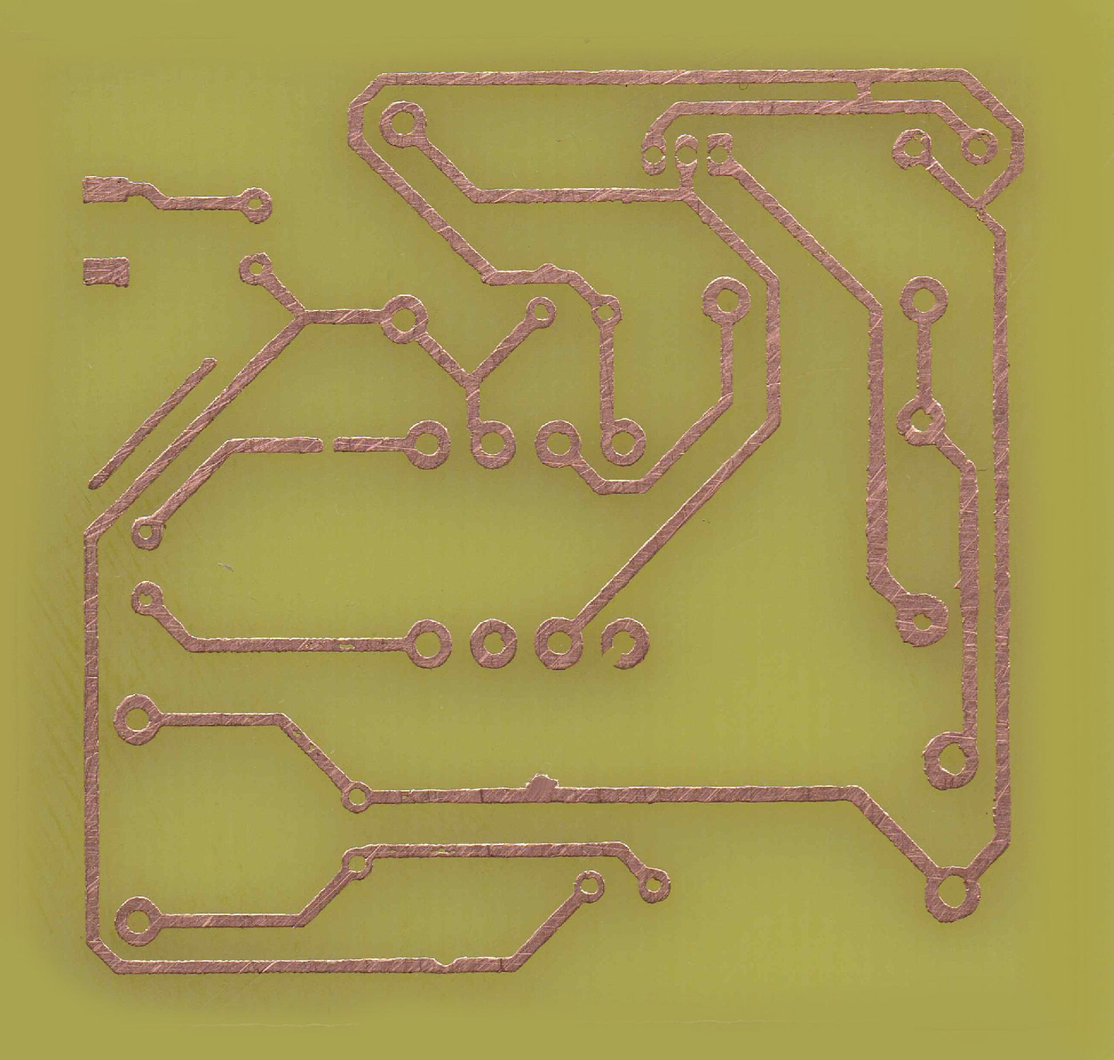missing_hole: (596, 616, 655, 674), (894, 127, 933, 170), (674, 133, 702, 180)
mouse_bite: (421, 949, 464, 981)
open_circuit: (316, 434, 340, 457)
short: (848, 60, 879, 119)
spur: (519, 770, 566, 811), (535, 258, 566, 290)
spurious_copper: (78, 350, 223, 497)
